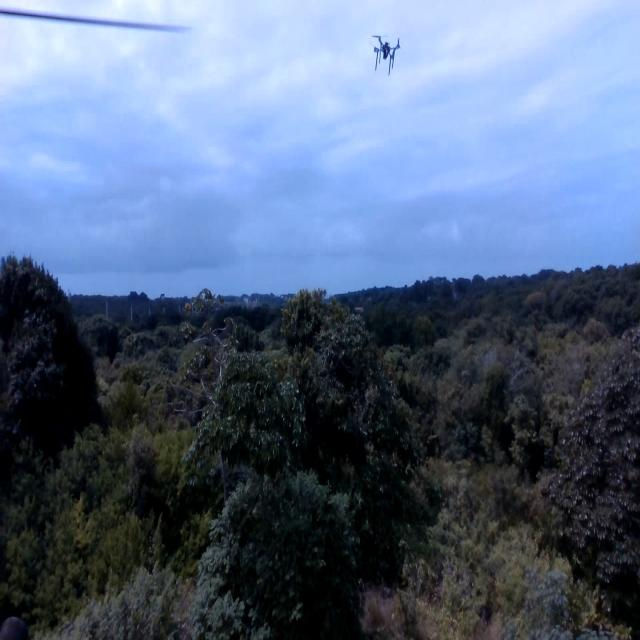-uav-: (366, 29, 404, 84)
